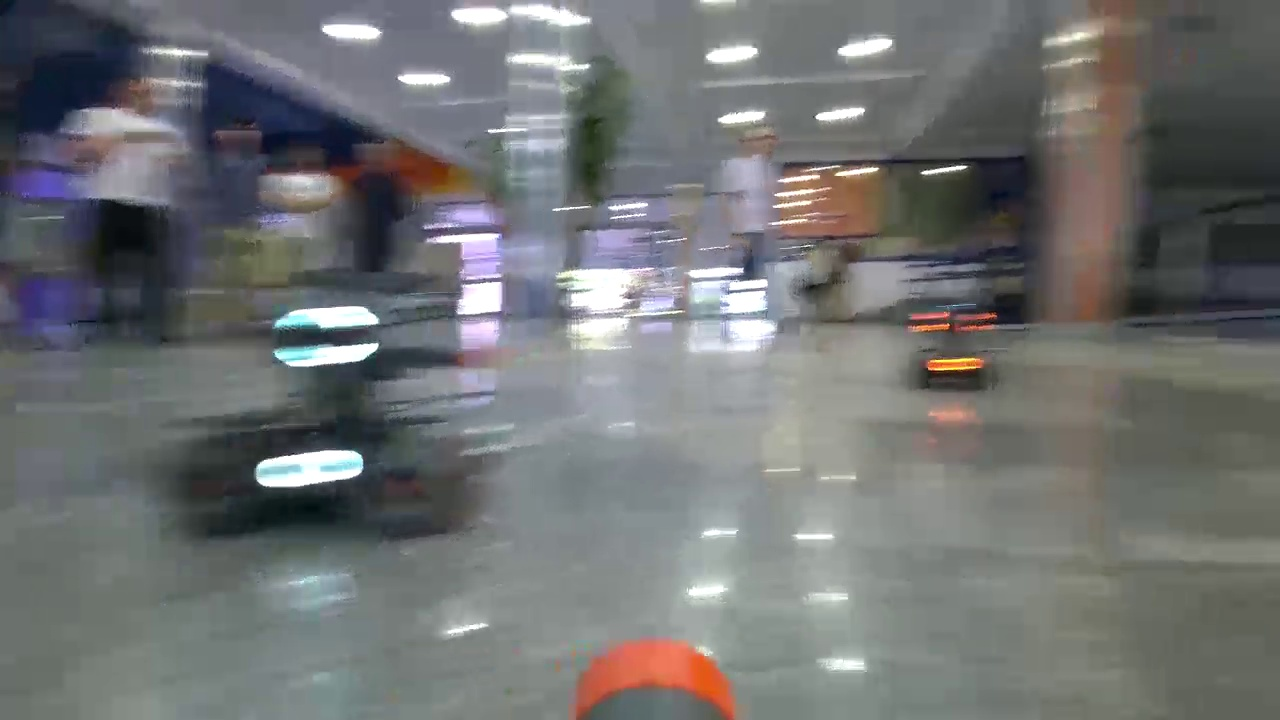robot: (177, 292, 487, 534), (905, 305, 1002, 385)
